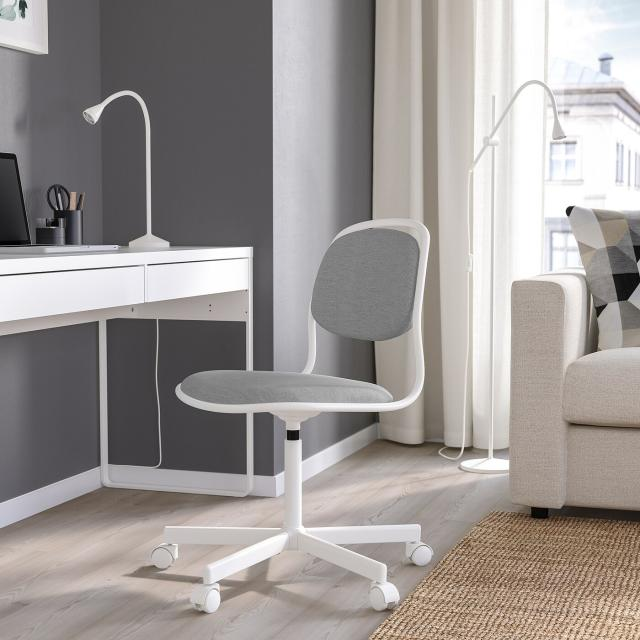chair: (96, 198, 484, 640)
